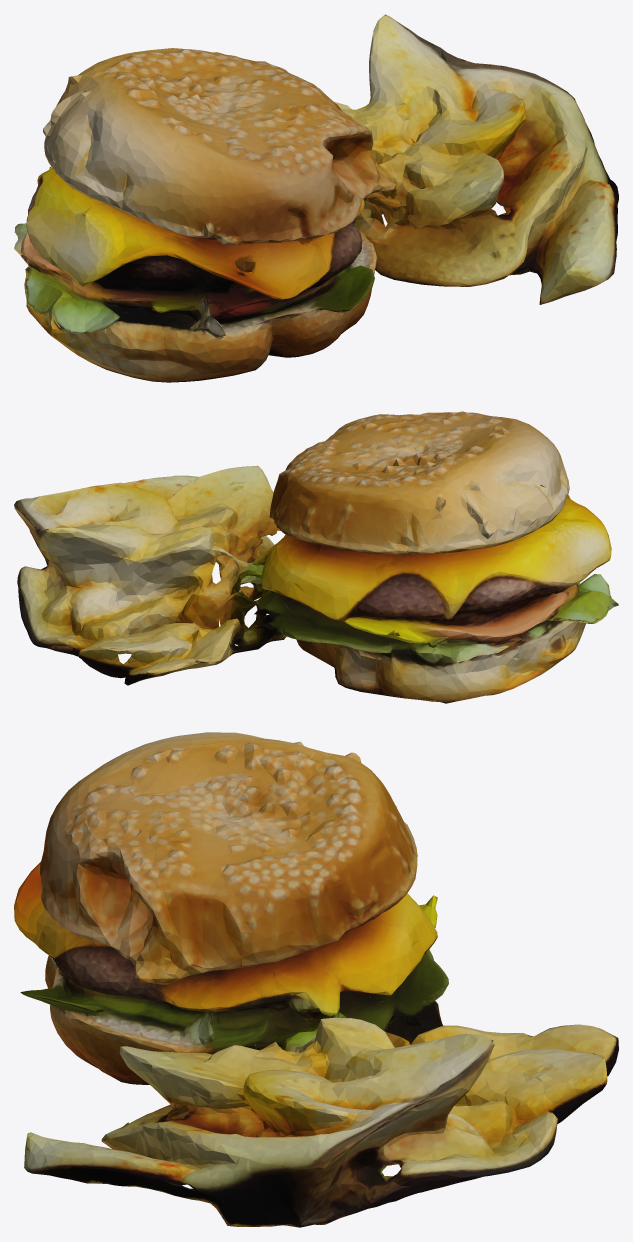
The model's file is hamburguesa.glb.
The picture shows the model from 3 angles, top to bottom: view 1: azimuth 30°, elevation 25°; view 2: azimuth 150°, elevation 25°; view 3: azimuth 270°, elevation 25°; orthographic projection. The views are drawn at different scales.
Parts seen in each view (by area): view 1: world; view 2: world; view 3: world.
Boxes of the visible parts, x1,y1,x2,y2 form: world: (14,14,618,382); world: (14,411,618,703); world: (14,732,618,1227).
Size of the model in its own units: 0.9866 by 0.3655 by 0.7845.
1 material, 1 textured.
